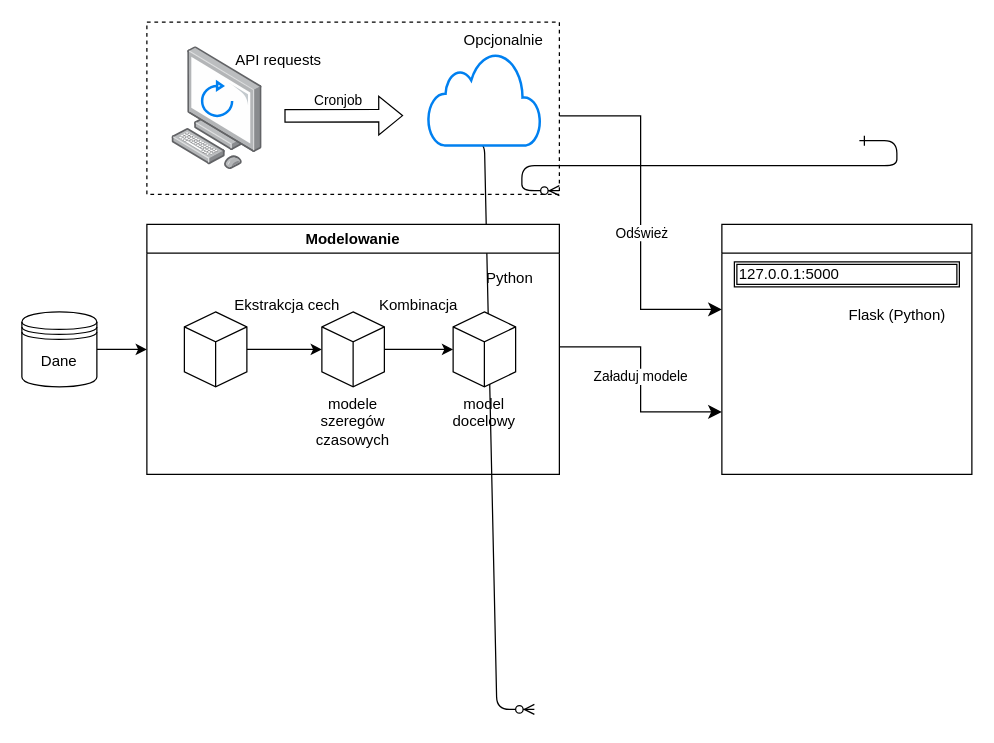
This 994x743 diagram has some shape labels left out. Each missing label, with the box of its shape:
Chmura: (426, 51, 541, 146)
Interfejs użytkownika: (721, 223, 972, 474)
modele językowe: (183, 311, 247, 387)
